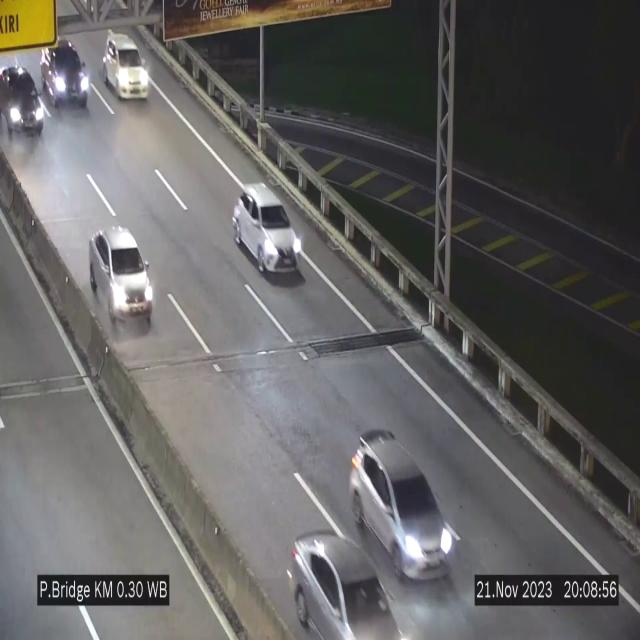Car: (349, 430, 456, 581), (286, 530, 401, 640), (89, 226, 153, 327), (234, 183, 302, 275), (37, 34, 91, 111), (0, 64, 46, 142), (103, 33, 149, 100)
